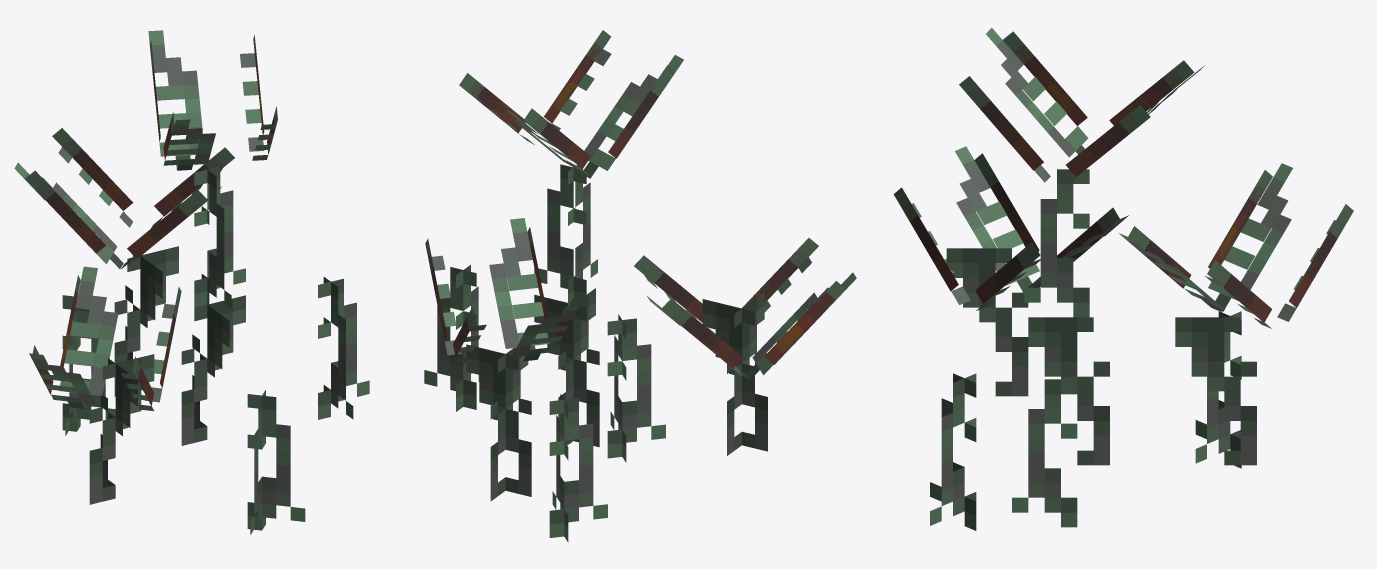
Rendered from dry_muscipula.obj.
3 renders of one model, left to right at view 1: azimuth 30°, elevation 25°; view 2: azimuth 150°, elevation 25°; view 3: azimuth 270°, elevation 25°, orthographic. The views are drawn at different scales.
Size of the model in its own units: 1.92 by 2.12 by 1.83.
